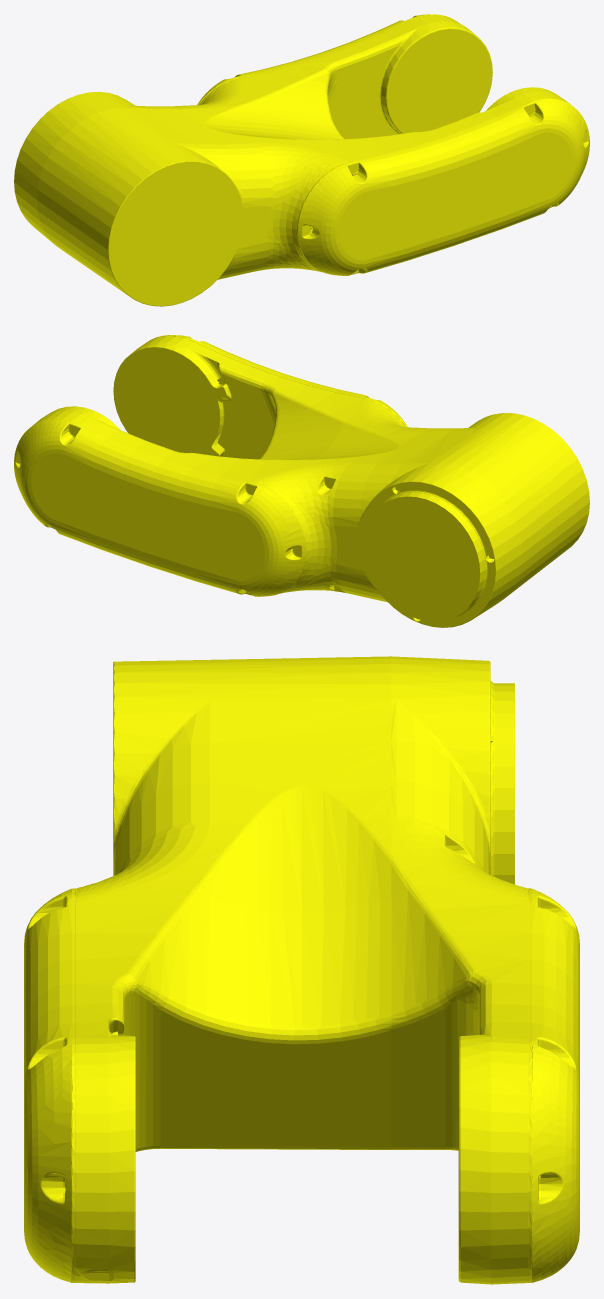
The picture shows the model from 3 angles, top to bottom: view 1: azimuth 30°, elevation 25°; view 2: azimuth 150°, elevation 25°; view 3: azimuth 270°, elevation 25°; orthographic projection. The views are drawn at different scales.
Visible parts, largest first — view 1: node; view 2: node; view 3: node.
Part boxes in pixels (bbox=[...]): node: bbox=[14, 14, 589, 306]; node: bbox=[14, 335, 589, 627]; node: bbox=[24, 656, 579, 1284].
Size of the model in its own units: 447 by 135 by 227.
